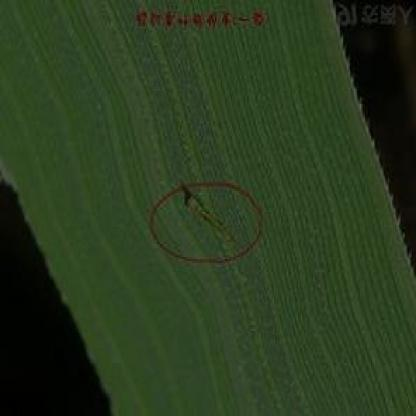leaf-folder: (173, 186, 243, 254)
